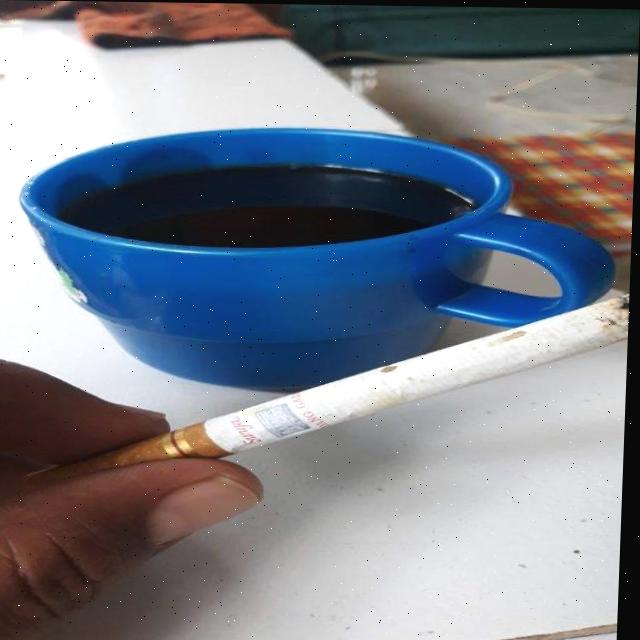cigarette: (34, 284, 632, 492)
